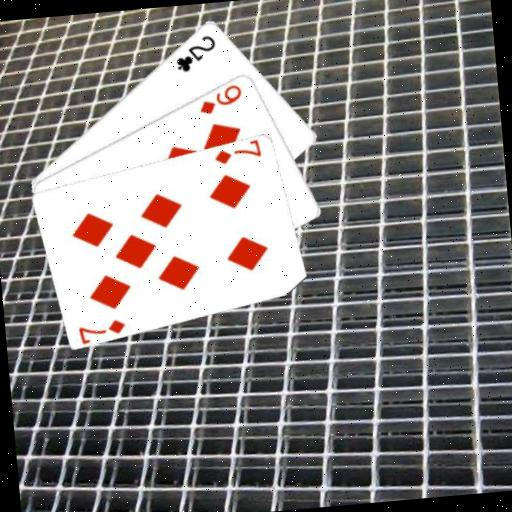2C: (171, 31, 220, 75)
7D: (211, 138, 265, 166), (76, 315, 129, 343)
9D: (195, 80, 245, 116)
